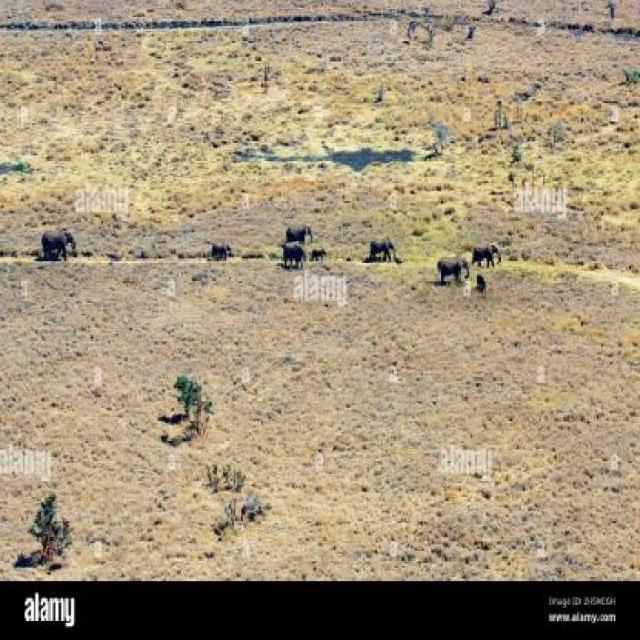elephant: (35, 228, 88, 270), (426, 252, 468, 294), (365, 222, 400, 264), (470, 234, 504, 272), (288, 218, 318, 252), (208, 234, 234, 266), (472, 270, 500, 298), (278, 236, 300, 270), (309, 248, 334, 266)
